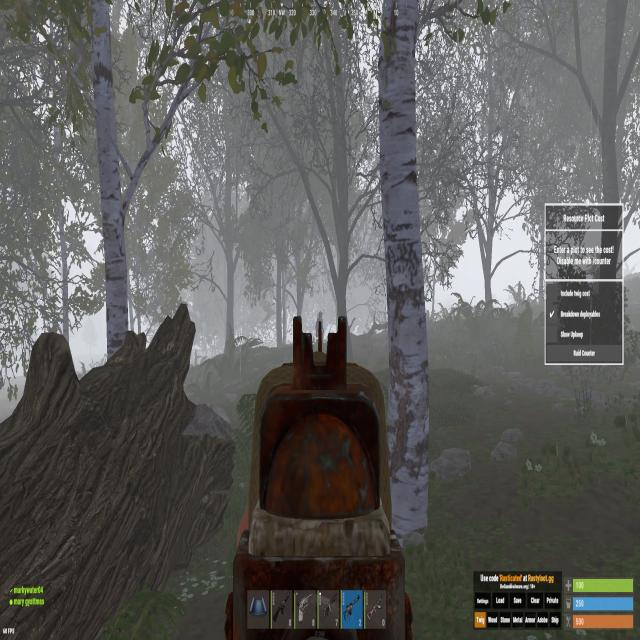Player: (315, 310, 324, 345)
